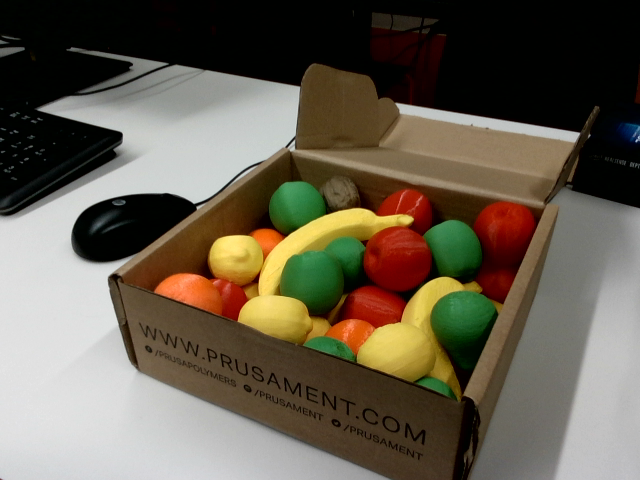banana: (240, 180, 415, 300), (399, 276, 464, 398)
green apple: (415, 278, 503, 373), (270, 238, 355, 322), (420, 212, 491, 290), (258, 170, 330, 238), (322, 228, 379, 292), (303, 330, 360, 362)
lemon: (355, 312, 443, 386), (235, 283, 319, 347), (208, 235, 262, 285)
orange: (152, 265, 229, 314), (324, 305, 375, 356), (247, 218, 287, 258)
red apple: (354, 216, 440, 301), (462, 191, 541, 273), (337, 277, 408, 337), (375, 180, 440, 236), (199, 273, 251, 322), (470, 253, 519, 304)
walnut: (317, 172, 361, 213)
